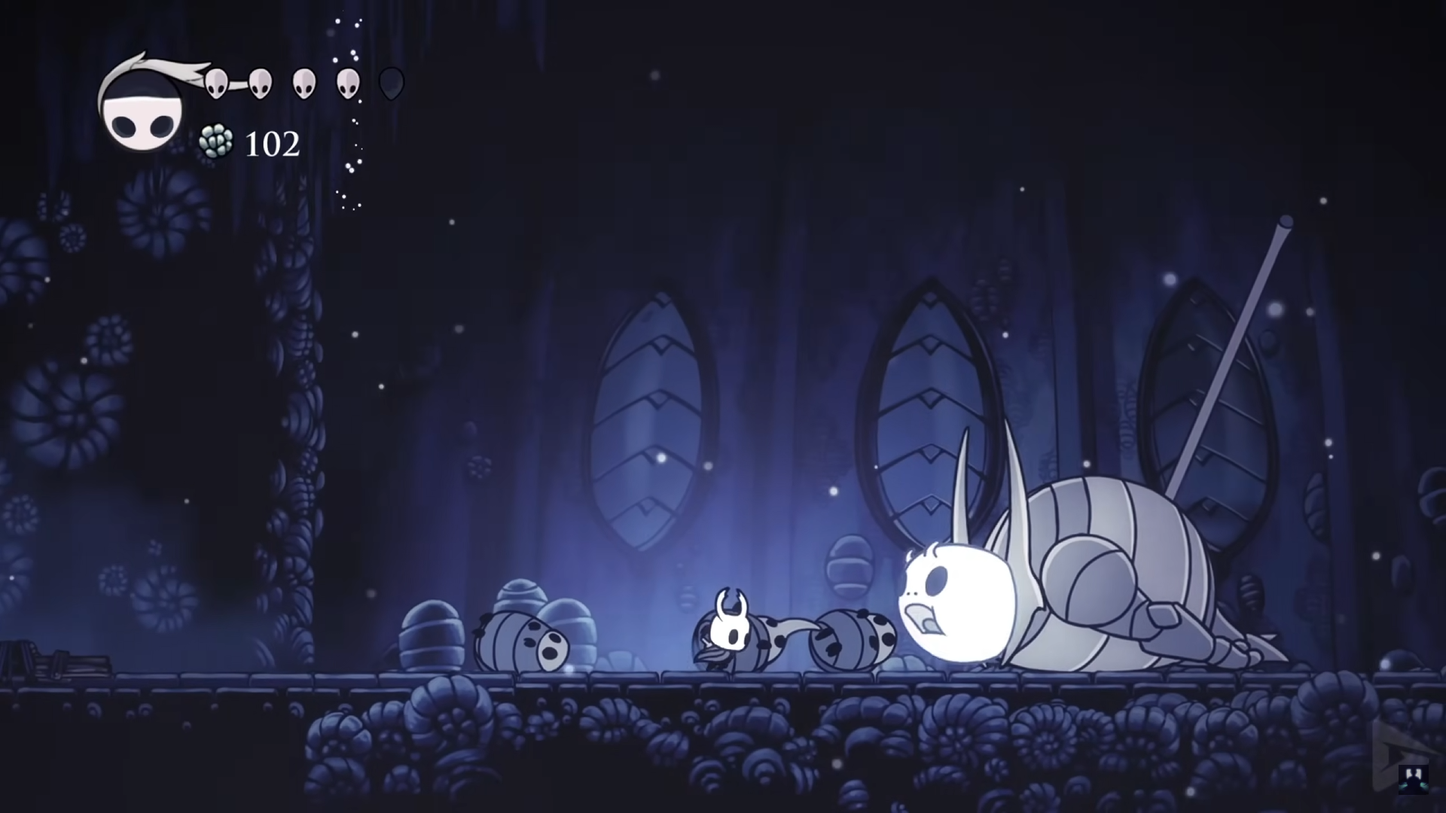HK: (697, 581, 758, 676)
